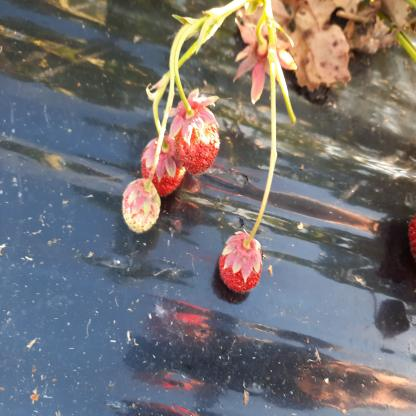ripe: (219, 232, 266, 291), (178, 108, 218, 173), (140, 138, 185, 192)
unripe: (122, 175, 158, 237)
